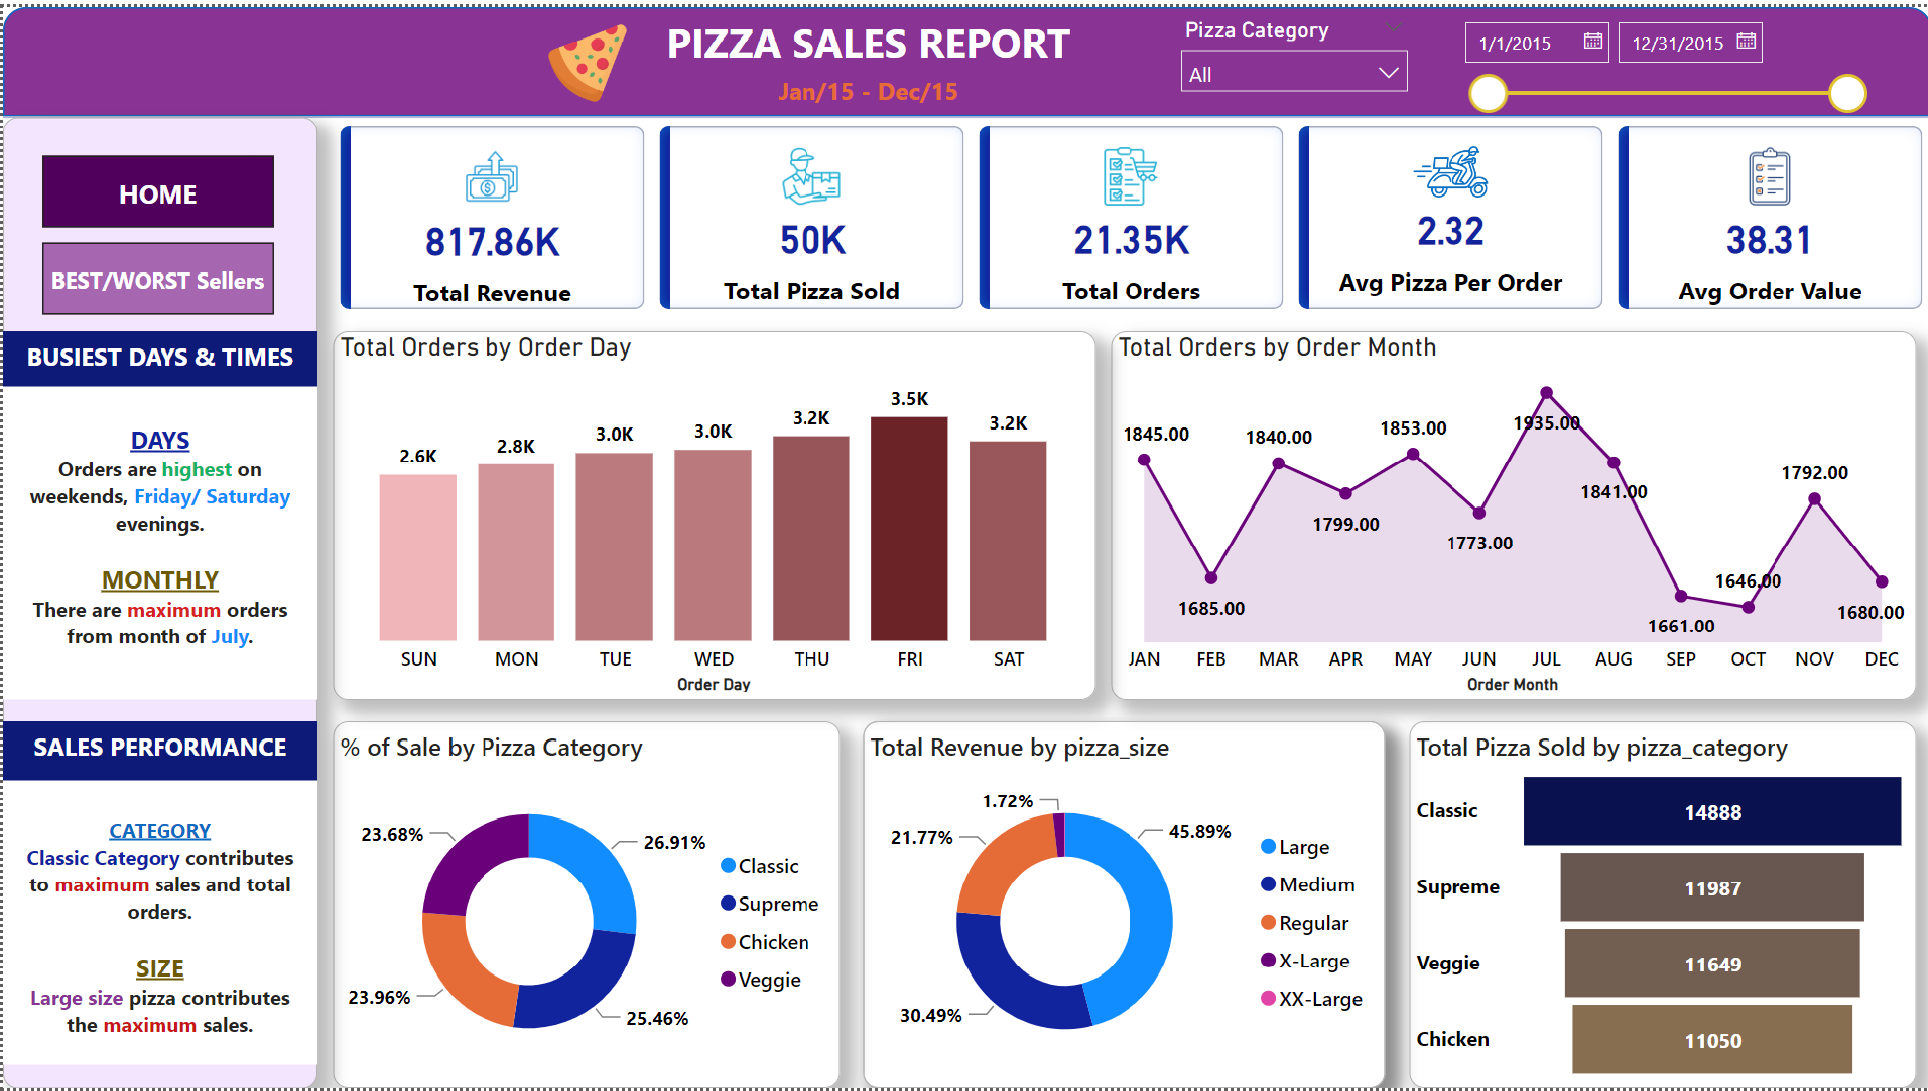

This screenshot's page, from the dashboard's own definition file:
{"tool":"powerbi","page":{"name":"HOME","canvas":[1280,720],"ordinal":0},"visuals":[{"type":"cardVisual","fields":{"Data":["pizza_sales.Total Revenue","pizza_sales.Total Pizza Sold","pizza_sales.Total Orders","pizza_sales.Avg Pizza Per Order","pizza_sales.Avg Order Value"]},"box":[218.8,73.8,1061.2,132.3],"z":0},{"type":"shape","title":"Pizza ","box":[0,0,1280,73.3],"z":1000},{"type":"textbox","box":[399.5,0,349.9,47.1],"z":2000},{"type":"textbox","box":[489.9,39.4,169.2,33.1],"z":3000},{"type":"image","box":[355,5.1,66.2,63.6],"z":4000},{"type":"shape","box":[735.4,216.3,534.4,244.3],"z":5000},{"type":"shape","box":[218.8,216.3,506.4,244.3],"z":6000},{"type":"areaChart","fields":{"Category":["pizza_sales.Order Month"],"Y":["pizza_sales.Total Orders"]},"box":[735.4,216.3,534.4,244.3],"z":7000},{"type":"shape","box":[218.8,475.9,337.2,244.3],"z":8000},{"type":"shape","box":[571.3,475.9,346.1,244.3],"z":9000},{"type":"shape","box":[932.6,475.9,337.2,244.3],"z":10000},{"type":"donutChart","title":"% of Sale by Pizza Category","fields":{"Y":["pizza_sales.Total Revenue"],"Category":["pizza_sales.pizza_category"]},"box":[218.8,481,337.2,234.1],"z":11000},{"type":"donutChart","title":"% of Sales by Pizza Size","fields":{"Y":["pizza_sales.Total Revenue"],"Category":["pizza_sales.pizza_size"]},"box":[571.3,481,346.1,234.1],"z":12000},{"type":"funnel","title":"Total Pizza Sold by Pizza_Category","fields":{"Y":["pizza_sales.Total Pizza Sold"],"Category":["pizza_sales.pizza_category"]},"box":[932.6,481,337.2,239.2],"z":13000},{"type":"clusteredColumnChart","fields":{"Y":["pizza_sales.Total Orders"],"Category":["pizza_sales.Order Day"]},"box":[218.8,216.3,506.4,244.3],"z":14000},{"type":"shape","box":[0,72.5,208.7,647.6],"z":15000},{"type":"textbox","box":[0,216.3,208.7,36.9],"z":16000},{"type":"textbox","box":[0,253.2,208.7,207.4],"z":17000},{"type":"textbox","box":[0,475.9,208.7,39.4],"z":19000},{"type":"textbox","box":[0,515.3,208.7,188.3],"z":20000},{"type":"slicer","fields":{"Values":["pizza_sales.pizza_category"]},"box":[772.3,1.3,169.2,71.3],"z":21000},{"type":"slicer","fields":{"Values":["pizza_sales.order_date"]},"box":[958.1,0,287.6,72.5],"z":22000},{"type":"pageNavigator","box":[26,99.3,154.3,106.9],"z":23000}]}

Visuals, with their boxes in screenshot pixels (x1, y1, x2, y2), scaled from the page's 1280x720 canvas onto the 1928x1091 screenshot:
cardVisual - pizza_sales.Total Revenue x pizza_sales.Total Pizza Sold: [left=330, top=112, right=1927, bottom=312]
"Pizza " shape: [left=0, top=0, right=1927, bottom=111]
textbox: [left=602, top=0, right=1129, bottom=71]
textbox: [left=738, top=60, right=993, bottom=110]
image: [left=535, top=8, right=634, bottom=104]
shape: [left=1108, top=328, right=1913, bottom=698]
shape: [left=330, top=328, right=1092, bottom=698]
areaChart - pizza_sales.Order Month x pizza_sales.Total Orders: [left=1108, top=328, right=1913, bottom=698]
shape: [left=330, top=721, right=837, bottom=1090]
shape: [left=861, top=721, right=1382, bottom=1090]
shape: [left=1405, top=721, right=1913, bottom=1090]
"% of Sale by Pizza Category" donutChart: [left=330, top=729, right=837, bottom=1084]
"% of Sales by Pizza Size" donutChart: [left=861, top=729, right=1382, bottom=1084]
"Total Pizza Sold by Pizza_Category" funnel: [left=1405, top=729, right=1913, bottom=1090]
clusteredColumnChart - pizza_sales.Total Orders x pizza_sales.Order Day: [left=330, top=328, right=1092, bottom=698]
shape: [left=0, top=110, right=314, bottom=1090]
textbox: [left=0, top=328, right=314, bottom=384]
textbox: [left=0, top=384, right=314, bottom=698]
textbox: [left=0, top=721, right=314, bottom=781]
textbox: [left=0, top=781, right=314, bottom=1066]
slicer - pizza_sales.pizza_category: [left=1163, top=2, right=1418, bottom=110]
slicer - pizza_sales.order_date: [left=1443, top=0, right=1876, bottom=110]
pageNavigator: [left=39, top=150, right=272, bottom=312]
